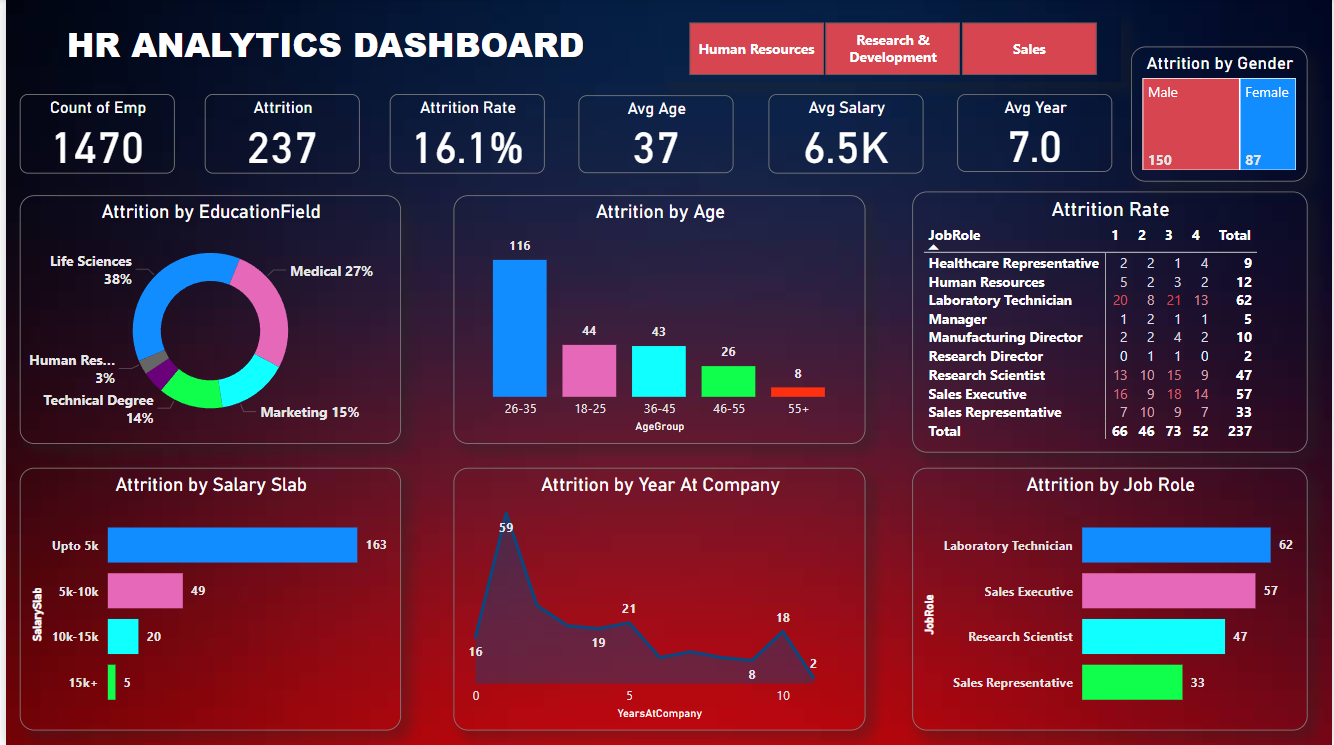

The page's visual inventory and layout, read from the dashboard file:
{"tool":"powerbi","page":{"name":"Page 1","canvas":[1280,720],"ordinal":0},"visuals":[{"type":"card","title":"Count of Emp","fields":{"Values":["CountNonNull(HR_Analytics.EmpID)"]},"box":[13.7,91.9,149.6,76.8],"z":0},{"type":"card","title":"Attrition","fields":{"Values":["Sum(HR_Analytics.AttritionC)"]},"box":[192.1,91.9,149.6,76.8],"z":1000},{"type":"card","title":"Attrition Rate","fields":{"Values":["HR_Analytics.AttritionRate"]},"box":[370.5,91.9,149.6,76.8],"z":2000},{"type":"card","title":"Avg Age","fields":{"Values":["Avg(HR_Analytics.Age)"]},"box":[553,93.3,149.6,75.5],"z":3000},{"type":"card","title":"Avg Salary","fields":{"Values":["Avg(HR_Analytics.MonthlyIncome)"]},"box":[735.5,91.9,149.6,76.8],"z":4000},{"type":"card","title":"Avg Year","fields":{"Values":["Avg(HR_Analytics.YearsAtCompany)"]},"box":[918,91.9,149.6,75.5],"z":5000},{"type":"donutChart","title":"Attrition by EducationField","fields":{"Category":["HR_Analytics.EducationField"],"Y":["Sum(HR_Analytics.AttritionCount)"]},"box":[13.7,189.4,367.8,240.1],"z":6000},{"type":"columnChart","title":"Attrition by Age","fields":{"Category":["HR_Analytics.AgeGroup"],"Y":["Sum(HR_Analytics.AttritionCount)"]},"box":[432.2,189.4,397.9,240.1],"z":7000},{"type":"pivotTable","title":"Attrition Rate","fields":{"Rows":["HR_Analytics.JobRole"],"Columns":["HR_Analytics.JobSatisfaction"],"Values":["Sum(HR_Analytics.AttritionCount)"]},"box":[874.7,185.8,381.2,252.1],"z":8000},{"type":"barChart","title":"Attrition by Salary Slab","fields":{"Category":["HR_Analytics.SalarySlab"],"Y":["Sum(HR_Analytics.AttritionCount)"]},"box":[13.7,452.8,367.8,253.9],"z":9000},{"type":"barChart","title":"Attrition by Job Role","fields":{"Y":["Sum(HR_Analytics.AttritionCount)"],"Category":["HR_Analytics.JobRole"]},"box":[874.1,452.8,381.5,253.9],"z":10000},{"type":"areaChart","title":"Attrition by Year At Company","fields":{"Category":["HR_Analytics.YearsAtCompany"],"Y":["Sum(HR_Analytics.AttritionCount)"]},"box":[432.2,452.8,397.9,253.9],"z":11000},{"type":"treemap","title":"Attrition by Gender","fields":{"Group":["HR_Analytics.Gender"],"Values":["Sum(HR_Analytics.AttritionCount)"]},"box":[1085.4,45.3,170.2,130.4],"z":12000},{"type":"slicer","fields":{"Values":["HR_Analytics.Department"]},"box":[634,15.1,443.2,64.5],"z":13000},{"type":"textbox","box":[32.9,15.1,551.6,64.5],"z":14000}]}

Visuals, with their boxes in screenshot pixels (x1, y1, x2, y2), scaled from the page's 1280x720 canvas onto the 1334x745 screenshot:
"Count of Emp" card: x1=14, y1=95, x2=170, y2=175
"Attrition" card: x1=200, y1=95, x2=356, y2=175
"Attrition Rate" card: x1=386, y1=95, x2=542, y2=175
"Avg Age" card: x1=576, y1=97, x2=732, y2=175
"Avg Salary" card: x1=767, y1=95, x2=922, y2=175
"Avg Year" card: x1=957, y1=95, x2=1113, y2=173
"Attrition by EducationField" donutChart: x1=14, y1=196, x2=398, y2=444
"Attrition by Age" columnChart: x1=450, y1=196, x2=865, y2=444
"Attrition Rate" pivotTable: x1=912, y1=192, x2=1309, y2=453
"Attrition by Salary Slab" barChart: x1=14, y1=469, x2=398, y2=731
"Attrition by Job Role" barChart: x1=911, y1=469, x2=1309, y2=731
"Attrition by Year At Company" areaChart: x1=450, y1=469, x2=865, y2=731
"Attrition by Gender" treemap: x1=1131, y1=47, x2=1309, y2=182
slicer - HR_Analytics.Department: x1=661, y1=16, x2=1123, y2=82
textbox: x1=34, y1=16, x2=609, y2=82
